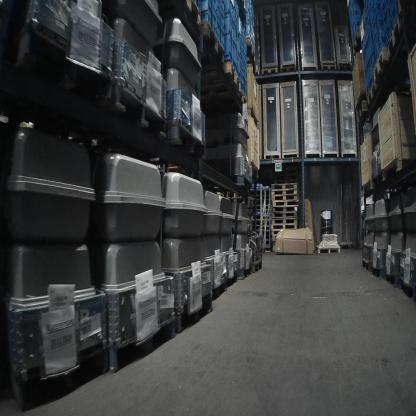pallet: (16, 26, 117, 98), (5, 350, 111, 404), (109, 314, 177, 371), (112, 84, 167, 141), (160, 119, 209, 160), (174, 294, 213, 333), (201, 22, 225, 66), (387, 15, 404, 59), (208, 276, 230, 304), (223, 62, 241, 94), (183, 0, 203, 28), (373, 49, 389, 83), (399, 277, 416, 302), (224, 271, 242, 292), (367, 81, 379, 105), (357, 100, 369, 123), (248, 259, 264, 276), (384, 270, 400, 287), (237, 263, 252, 281), (245, 39, 255, 63), (370, 264, 385, 280), (352, 29, 361, 54), (248, 107, 258, 128), (272, 200, 299, 207), (271, 218, 298, 225), (362, 179, 374, 194), (271, 195, 298, 201), (271, 224, 298, 230), (237, 90, 247, 106), (271, 184, 297, 190), (271, 189, 297, 195), (272, 206, 298, 212), (272, 212, 298, 218), (262, 66, 278, 75), (274, 179, 297, 185), (264, 152, 281, 160), (362, 257, 371, 272), (279, 66, 297, 73), (321, 63, 336, 71), (338, 64, 353, 71), (397, 0, 404, 15), (250, 215, 270, 220), (254, 194, 270, 200), (251, 220, 270, 225), (252, 205, 270, 210), (252, 210, 270, 215), (254, 200, 270, 205), (256, 230, 269, 236), (255, 225, 270, 230), (271, 230, 280, 236), (265, 246, 271, 252), (265, 240, 270, 247), (255, 70, 260, 76), (272, 236, 277, 242), (265, 236, 270, 242), (272, 241, 276, 248), (260, 153, 262, 160)
small_load_carrier: (225, 37, 236, 72), (372, 13, 384, 45), (375, 32, 387, 62), (369, 0, 381, 29), (225, 16, 235, 50), (225, 0, 235, 32), (384, 19, 394, 46), (380, 0, 390, 24), (382, 9, 391, 33), (365, 17, 373, 43), (390, 4, 399, 27), (368, 32, 377, 55), (361, 0, 370, 22), (370, 47, 378, 71), (364, 63, 372, 87), (362, 44, 370, 68), (235, 15, 241, 43), (235, 33, 241, 61), (361, 30, 368, 52), (236, 51, 241, 79), (389, 0, 397, 17), (236, 0, 241, 25), (380, 0, 386, 11), (386, 0, 391, 7), (372, 0, 375, 4)
